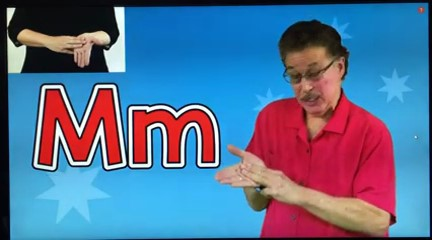S: (218, 141, 303, 206), (48, 31, 94, 71)
